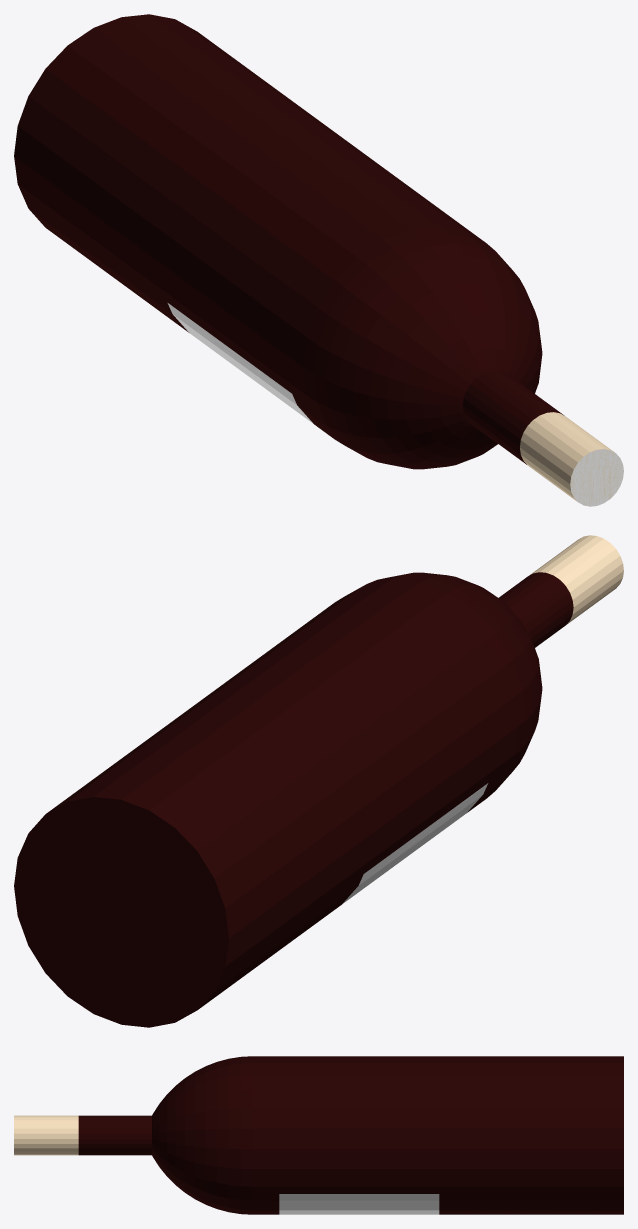
3 renders of one model, top to bottom at view 1: azimuth 30°, elevation 25°; view 2: azimuth 150°, elevation 25°; view 3: azimuth 270°, elevation 25°, orthographic. The views are drawn at different scales.
Parts seen in each view (by area): view 1: wine bottle; view 2: wine bottle; view 3: wine bottle.
Boxes of the visible parts, x1,y1,x2,y2 form: wine bottle: [14, 14, 623, 506]; wine bottle: [14, 535, 623, 1027]; wine bottle: [14, 1056, 623, 1214].
Size of the model in its own units: 3 by 3 by 11.5.
